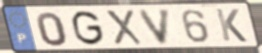0: (34, 10, 70, 48)
6: (180, 8, 212, 44)
G: (71, 9, 107, 47)
K: (213, 8, 249, 44)
V: (136, 7, 174, 46)
X: (103, 9, 145, 46)
